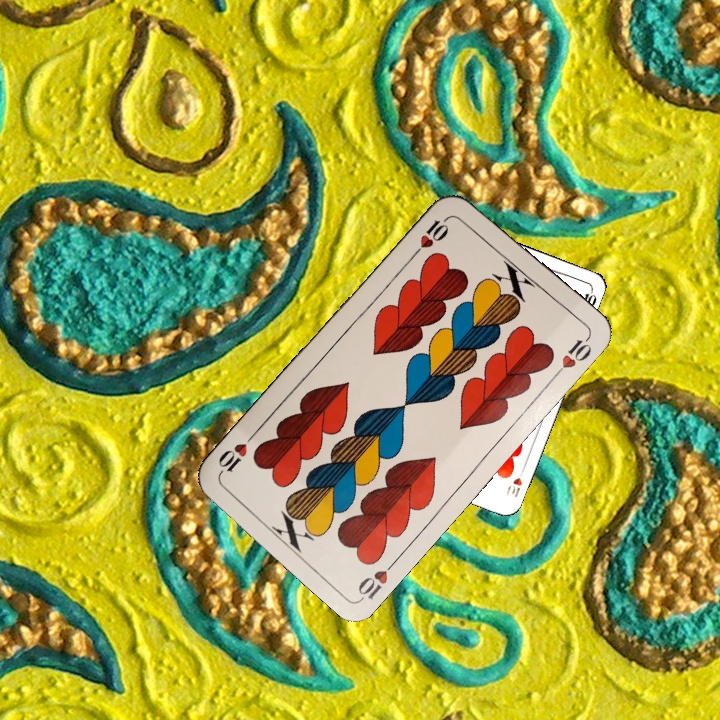H10: (353, 553, 401, 602), (408, 212, 453, 260), (502, 463, 527, 500)
